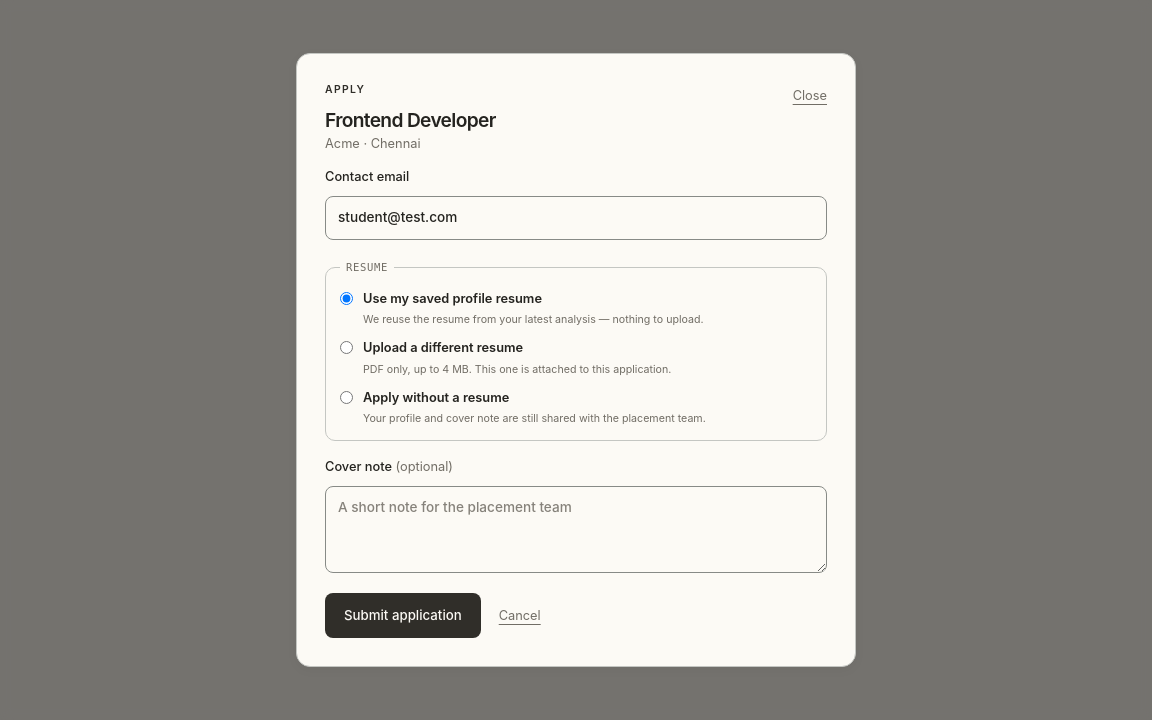
ApplyDialog › does not mark an application successful after profile_resume_unavailable
Click the button "Submit application" at (403, 616), box [325, 593, 481, 638]
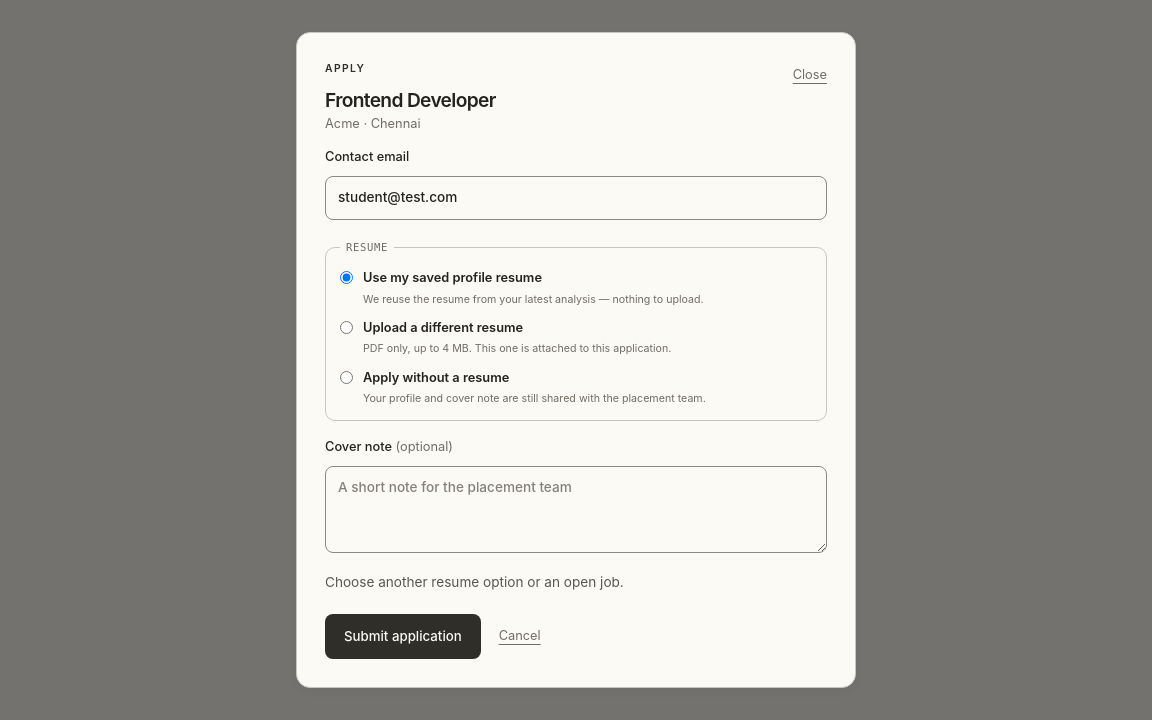
Check: the text "Choose another resume option or an open job." is shown, box [325, 574, 624, 590]
